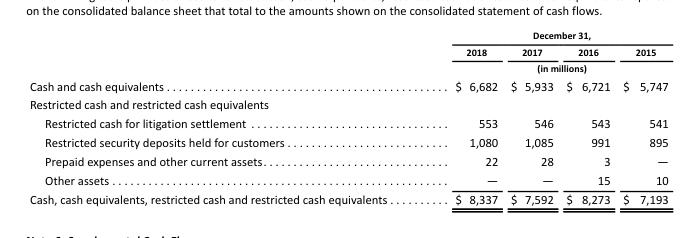table: (28, 28, 667, 206)
table column: (28, 28, 420, 206), (420, 28, 503, 206), (559, 28, 616, 206), (503, 28, 559, 206), (616, 28, 667, 206)
table column header: (28, 28, 667, 75)
table projected row header: (28, 94, 667, 113)
table row: (28, 75, 667, 94), (28, 94, 667, 113), (28, 113, 667, 132), (28, 132, 667, 151), (28, 151, 667, 170), (28, 170, 667, 189), (28, 189, 667, 206), (28, 43, 667, 59), (28, 59, 667, 75), (28, 28, 667, 43)
table spanning cell: (420, 59, 667, 75), (420, 28, 667, 43)
